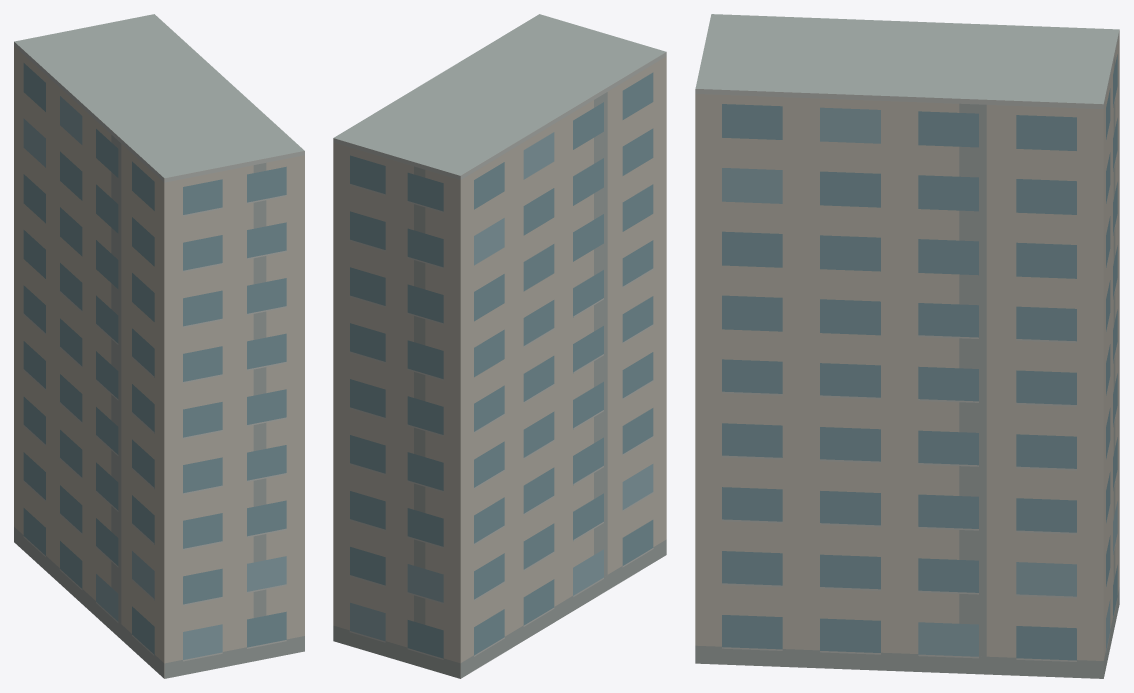
File: residential-ad261a77-dd6a-4129-a574-094c3c2c294d.glb
3 renders of one model, left to right at view 1: azimuth 30°, elevation 25°; view 2: azimuth 150°, elevation 25°; view 3: azimuth 270°, elevation 25°, orthographic. The views are drawn at different scales.
Visible parts, largest first — view 1: residential-ad261a77-dd6a-4129-a574-094c3c2c294d.tmp; view 2: residential-ad261a77-dd6a-4129-a574-094c3c2c294d.tmp; view 3: residential-ad261a77-dd6a-4129-a574-094c3c2c294d.tmp.
Part boxes in pixels (bbox=[...]): residential-ad261a77-dd6a-4129-a574-094c3c2c294d.tmp: bbox=[14, 14, 304, 678]; residential-ad261a77-dd6a-4129-a574-094c3c2c294d.tmp: bbox=[333, 14, 666, 678]; residential-ad261a77-dd6a-4129-a574-094c3c2c294d.tmp: bbox=[695, 14, 1119, 678].
Size of the model in its own units: 9.43 by 28 by 18.74.
